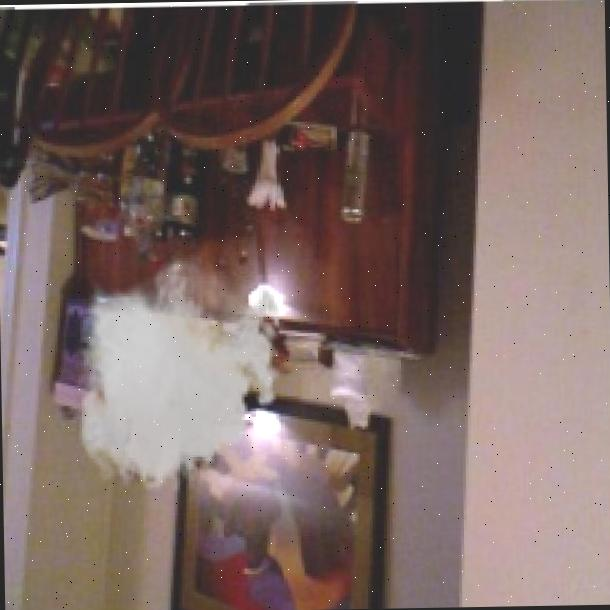smoke: (67, 245, 291, 500)
